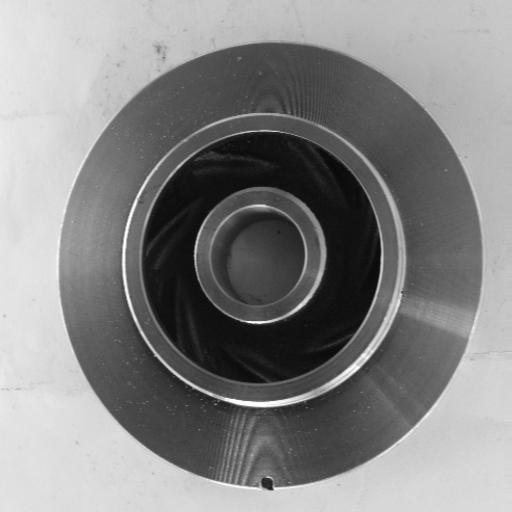pit: (247, 469, 289, 501)
unpolished_casting: (57, 39, 484, 491)
